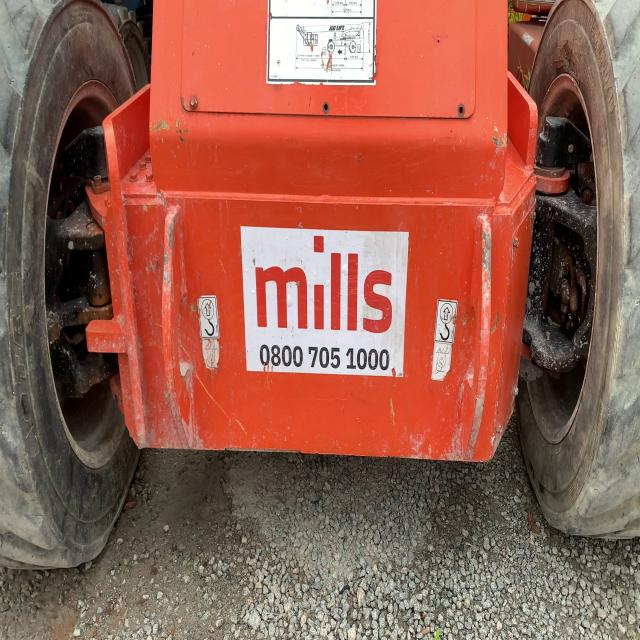Adesivos: (238, 220, 411, 381)
